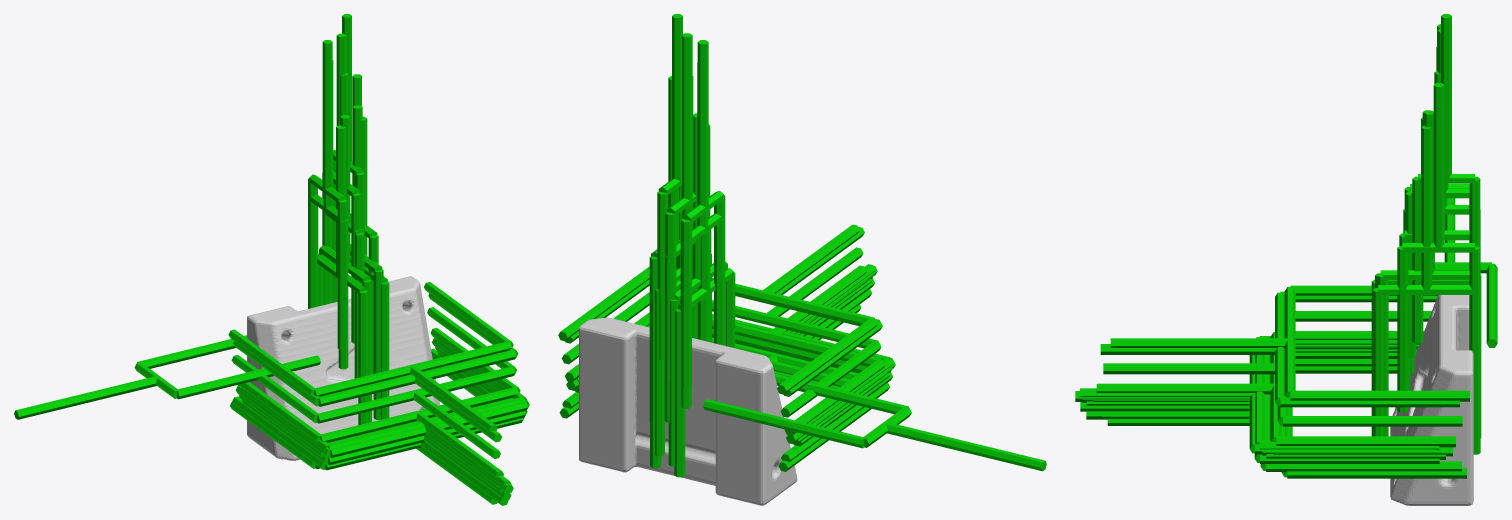
3 views of the same model, side by side, from view 1: azimuth 30°, elevation 25°; view 2: azimuth 150°, elevation 25°; view 3: azimuth 270°, elevation 25° (orthographic). The views are drawn at different scales.
Parts seen in each view (by area): view 1: world, 00216092_79b3a1b3459041336d3aec78_step_000_0000.obj; view 2: world, 00216092_79b3a1b3459041336d3aec78_step_000_0000.obj; view 3: world, 00216092_79b3a1b3459041336d3aec78_step_000_0000.obj.
Part boxes in pixels (<box>): world: <box>14,14,529,505</box>; 00216092_79b3a1b3459041336d3aec78_step_000_0000.obj: <box>247,276,439,460</box>; world: <box>558,14,1046,477</box>; 00216092_79b3a1b3459041336d3aec78_step_000_0000.obj: <box>579,317,797,505</box>; world: <box>1075,14,1497,478</box>; 00216092_79b3a1b3459041336d3aec78_step_000_0000.obj: <box>1390,295,1473,505</box>.
Size of the model in its own units: 199 by 182 by 155.
